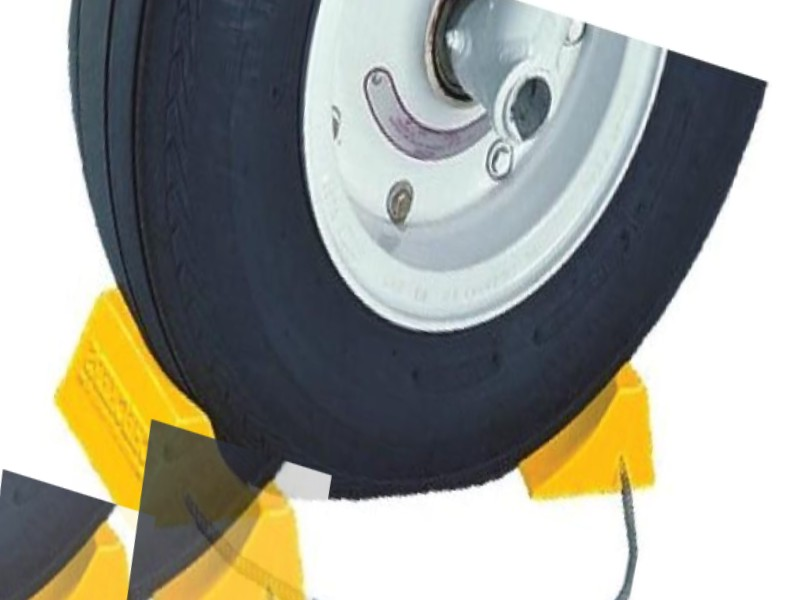chock: (25, 270, 305, 573), (490, 308, 681, 536), (113, 419, 338, 600), (0, 469, 164, 600)
wheel: (0, 0, 772, 600)
